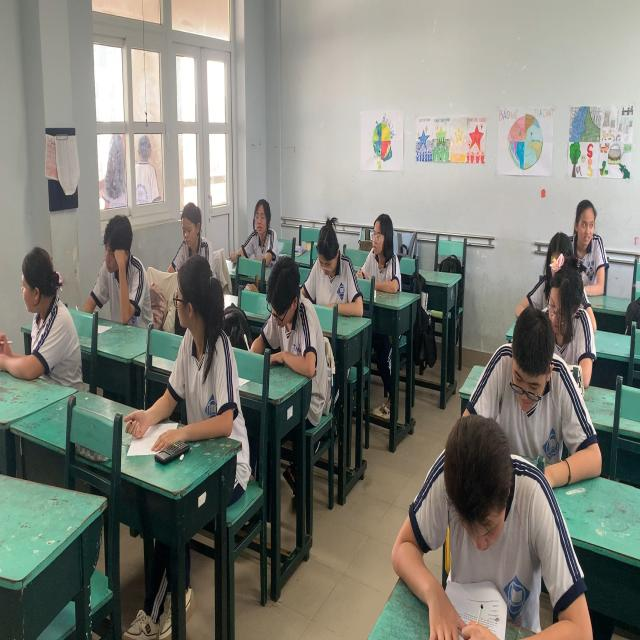cheating: (161, 254, 236, 428)
not_cheating: (428, 414, 560, 612), (482, 303, 572, 447), (8, 237, 76, 385), (92, 198, 153, 337), (256, 257, 322, 377), (542, 260, 595, 375), (302, 208, 355, 316), (562, 175, 613, 285), (172, 184, 225, 274), (362, 202, 405, 286), (240, 178, 282, 258)
